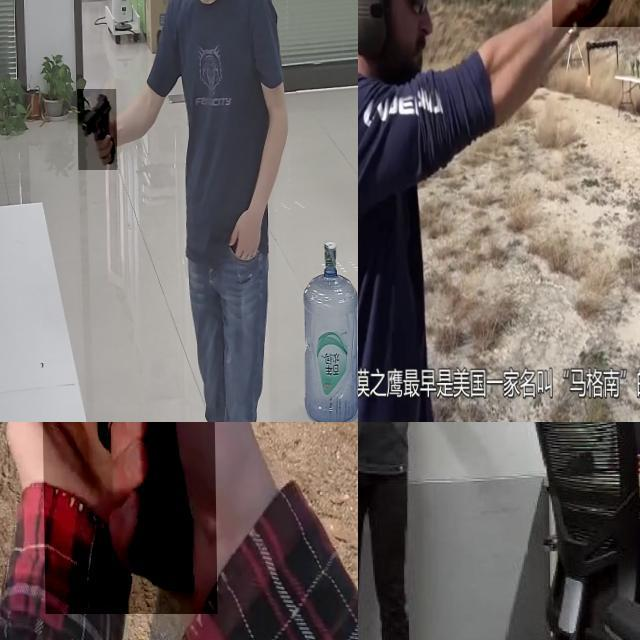-: (441, 422, 464, 457)
gun-knife-thesis - v11 Yolov5 augmented: (39, 422, 215, 632), (549, 0, 640, 78), (76, 89, 116, 170)
